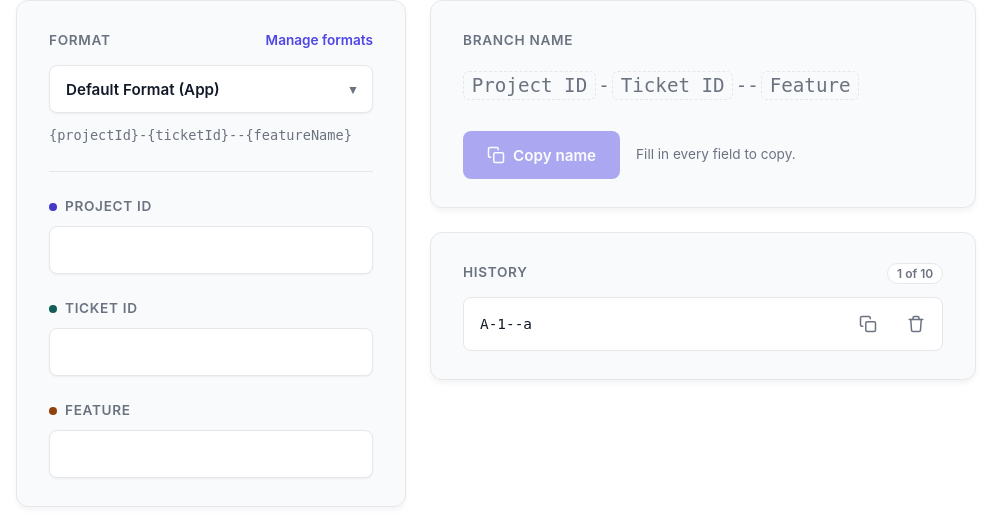
Test case: AppMainView › deletes a name from the history
Expected: the number of list items with class "hist-row" is 1, [463, 297, 943, 351]
Click the button with class "danger" at x=916, y=324, box [898, 306, 934, 342]
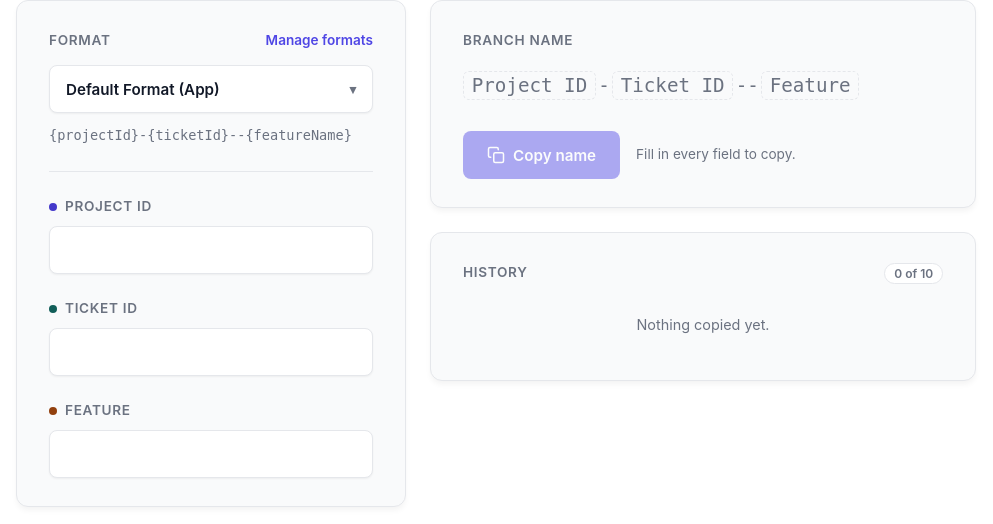
Result: no list items with class "hist-row" are shown
Result: the text "Nothing copied yet." is shown at [636, 316, 770, 333]
